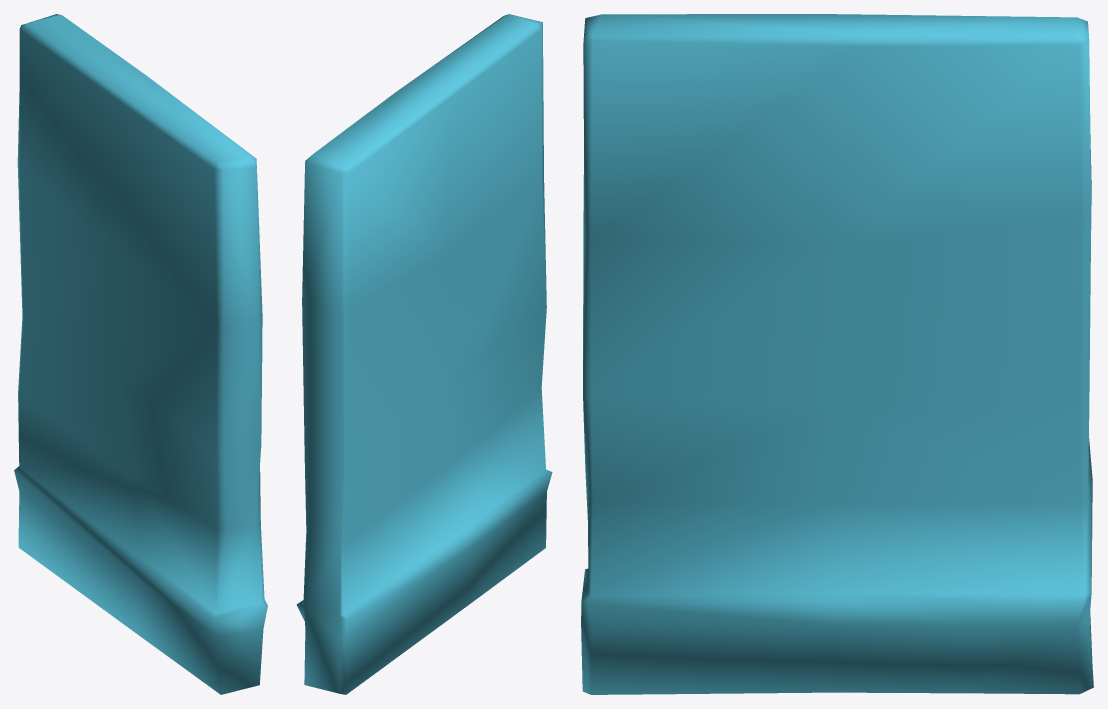
Rendered from wall_05.FBX.
3 views of the same model, side by side, from view 1: azimuth 30°, elevation 25°; view 2: azimuth 150°, elevation 25°; view 3: azimuth 270°, elevation 25° (orthographic). The views are drawn at different scales.
Visible parts, largest first — view 1: wall_05; view 2: wall_05; view 3: wall_05.
Part boxes in pixels (x1,y1,x2,y2): wall_05: [14, 14, 267, 694]; wall_05: [296, 14, 552, 694]; wall_05: [581, 14, 1093, 694].
Size of the model in its own units: 12.96 by 117 by 82.47.
